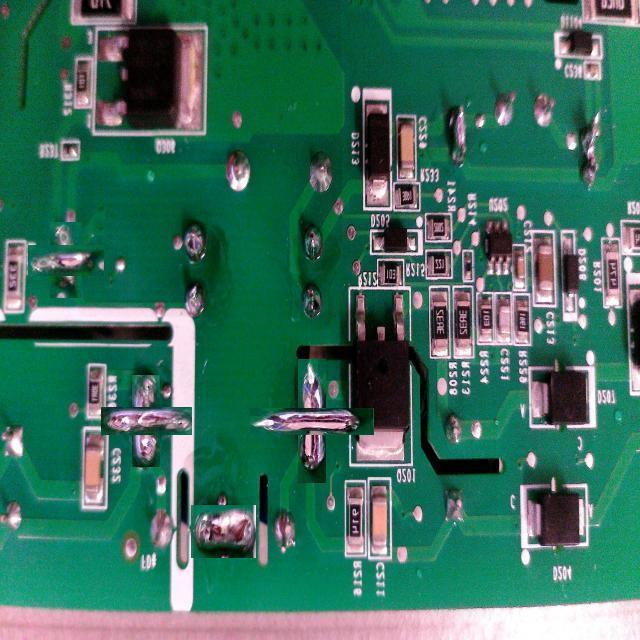Short_circuit: (274, 384, 350, 459), (116, 391, 176, 451), (190, 504, 256, 558), (40, 233, 94, 287), (580, 112, 604, 188), (446, 100, 468, 173)
